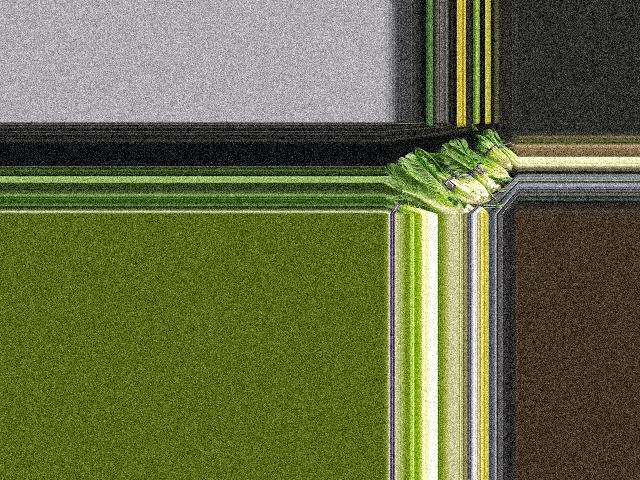lettuce: (385, 156, 462, 210)
